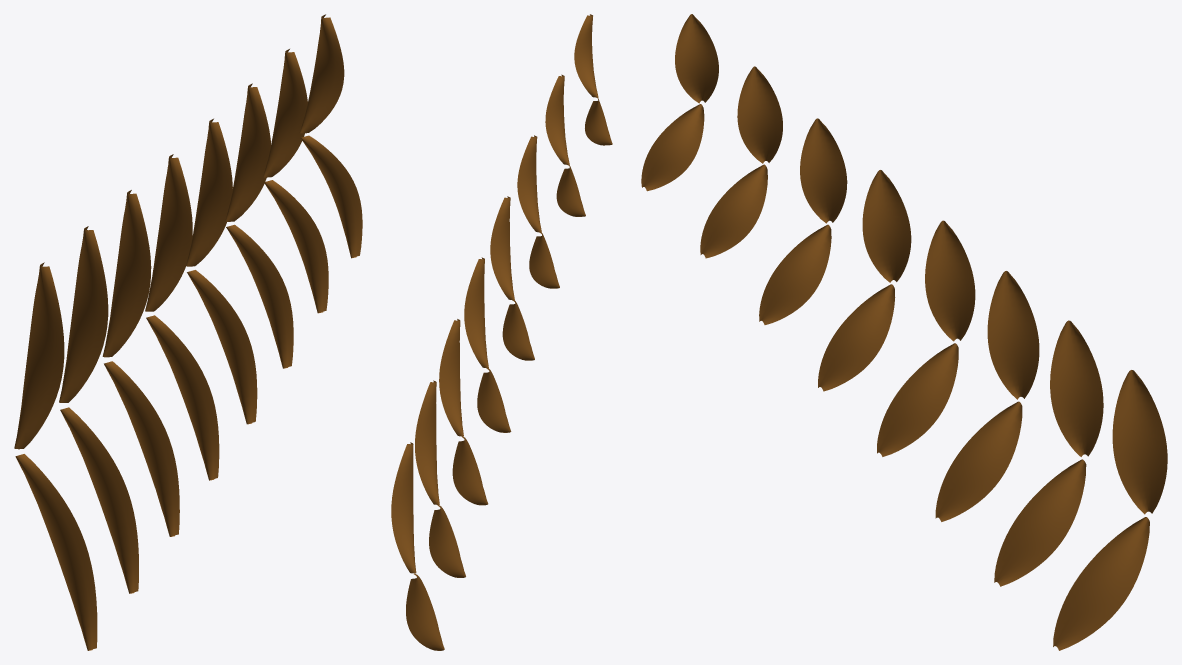
File: SM_Amber_Botanical.obj
The picture shows the model from 3 angles, left to right: view 1: azimuth 30°, elevation 25°; view 2: azimuth 150°, elevation 25°; view 3: azimuth 270°, elevation 25°; orthographic projection. The views are drawn at different scales.
Visible parts, largest first — view 1: Botanical; view 2: Botanical; view 3: Botanical.
Boxes of the visible parts, x1,y1,x2,y2 form: Botanical: [14, 14, 362, 650]; Botanical: [391, 14, 612, 650]; Botanical: [641, 14, 1167, 650].
Size of the model in its own units: 0.2603 by 5.31 by 3.99.
